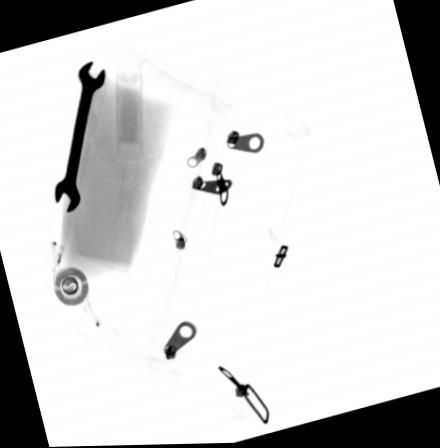Wrench: (51, 59, 107, 214)
